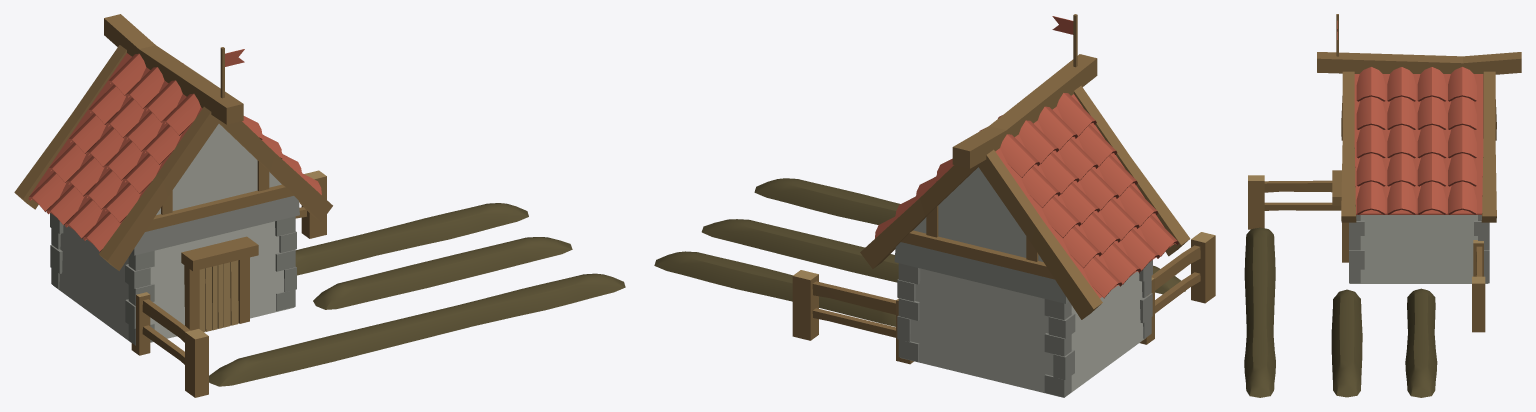
The model's file is Farm.fbx.
3 renders of one model, left to right at view 1: azimuth 30°, elevation 25°; view 2: azimuth 150°, elevation 25°; view 3: azimuth 270°, elevation 25°, orthographic. The views are drawn at different scales.
Parts seen in each view (by area): view 1: 0, 4, 9, 14, 10, 6, 7, 19, 11, 17, 18, 16 (+7 smaller); view 2: 4, 0, 9, 14, 10, 5, 7, 19, 17, 18, 16, 15 (+6 smaller); view 3: 0, 4, 9, 10, 14, 19, 18, 17, 16, 15, 6, 5 (+3 smaller).
Boxes of the visible parts, bbox=[...] form: 0: bbox=[209, 203, 625, 386]; 4: bbox=[53, 221, 294, 342]; 9: bbox=[14, 45, 332, 270]; 14: bbox=[30, 53, 281, 242]; 10: bbox=[104, 14, 243, 124]; 6: bbox=[131, 292, 208, 397]; 7: bbox=[131, 196, 299, 255]; 19: bbox=[107, 53, 200, 135]; 11: bbox=[181, 236, 258, 330]; 17: bbox=[68, 113, 282, 193]; 18: bbox=[88, 84, 262, 164]; 16: bbox=[48, 142, 302, 222]; 4: bbox=[900, 268, 1145, 397]; 0: bbox=[654, 178, 1185, 326]; 9: bbox=[860, 85, 1190, 319]; 14: bbox=[913, 94, 1174, 298]; 10: bbox=[952, 54, 1097, 168]; 5: bbox=[792, 270, 913, 364]; 7: bbox=[894, 242, 1068, 303]; 19: bbox=[979, 93, 1096, 177]; 17: bbox=[915, 154, 1137, 237]; 18: bbox=[936, 124, 1117, 207]; 16: bbox=[895, 185, 1158, 268]; 15: bbox=[875, 215, 1178, 298]; 0: bbox=[1244, 227, 1437, 397]; 4: bbox=[1349, 215, 1488, 283]; 9: bbox=[1341, 71, 1496, 222]; 10: bbox=[1317, 52, 1521, 74]; 14: bbox=[1354, 74, 1483, 214]; 19: bbox=[1356, 67, 1476, 101]; 18: bbox=[1356, 96, 1476, 129]; 17: bbox=[1356, 125, 1476, 158]; 16: bbox=[1356, 153, 1476, 186]; 15: bbox=[1356, 181, 1476, 214]; 6: bbox=[1248, 175, 1341, 229]; 5: bbox=[1472, 240, 1485, 332].
Size of the model in its own units: 181 by 107 by 111.
